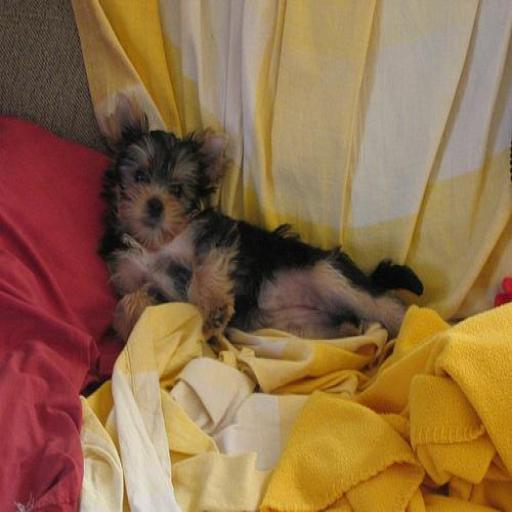dog_face: (98, 99, 227, 251)
